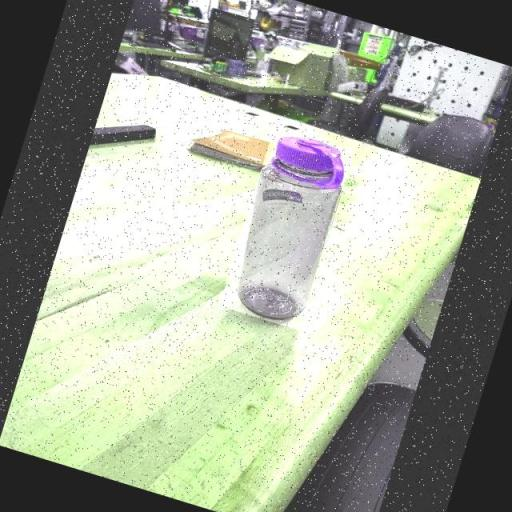bottle: (219, 127, 353, 330)
